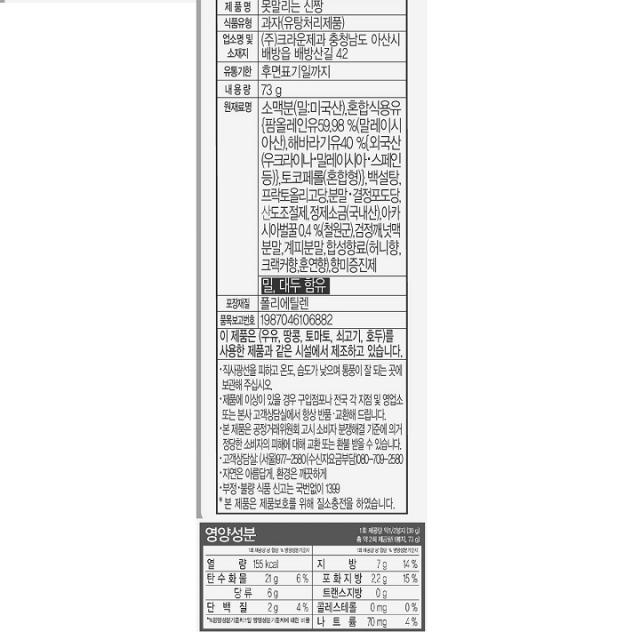Nutrition Label: (189, 510, 444, 640)
